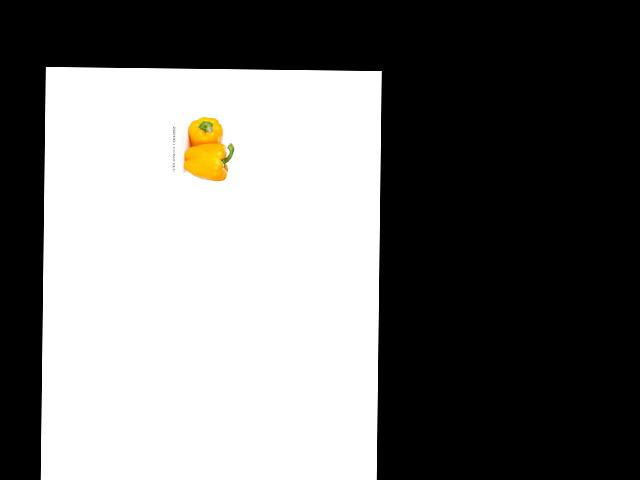bell_pepper: (186, 116, 225, 148)
